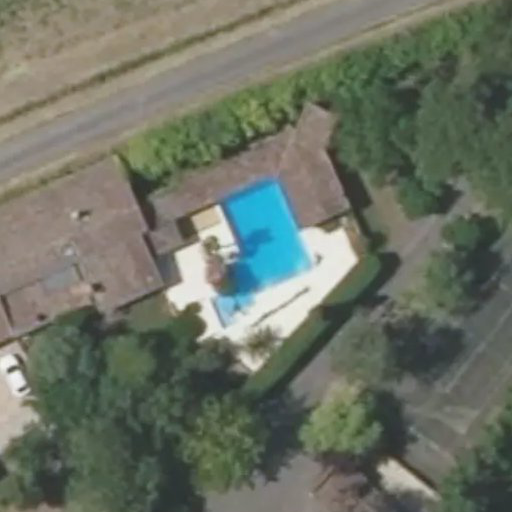pool: (169, 219, 315, 264)
